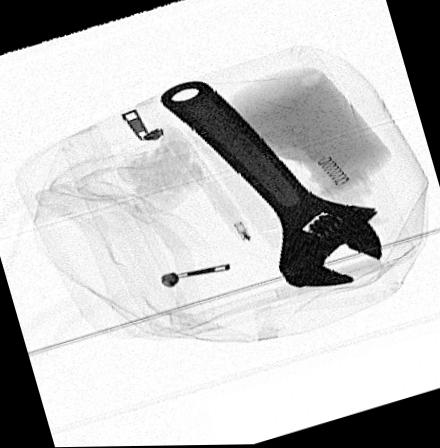Wrench: (162, 80, 385, 289)
